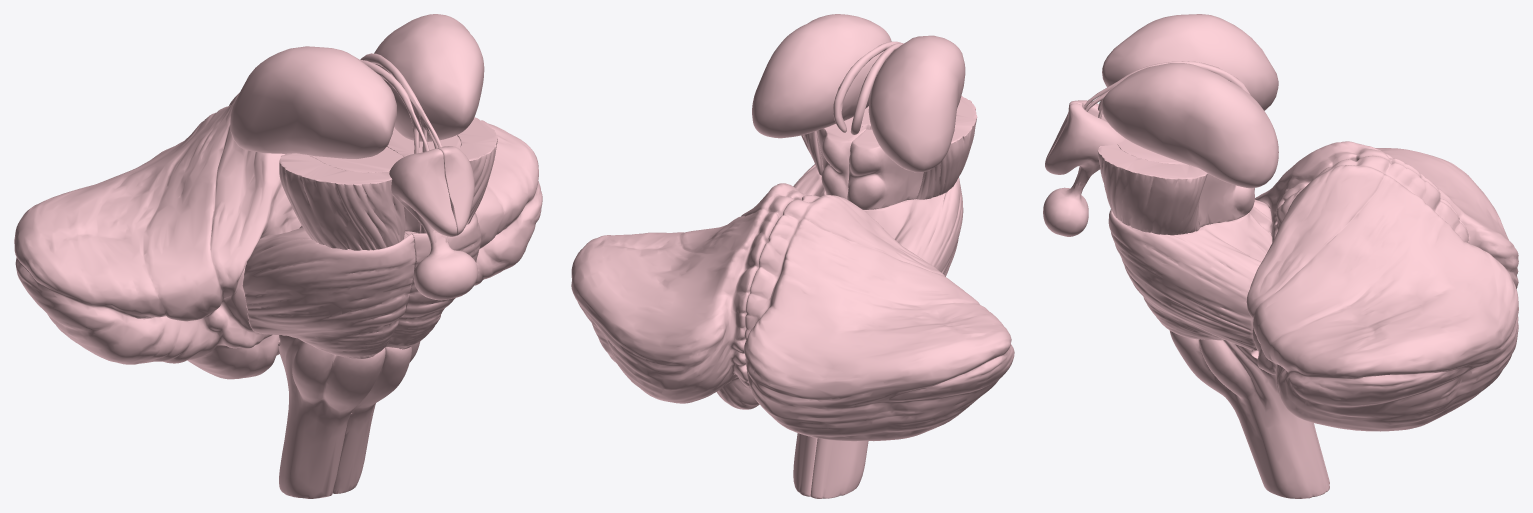
File: brain.glb
The picture shows the model from 3 angles, left to right: view 1: azimuth 30°, elevation 25°; view 2: azimuth 150°, elevation 25°; view 3: azimuth 270°, elevation 25°; orthographic projection. The views are drawn at different scales.
Visible parts, largest first — view 1: grp1; view 2: grp1; view 3: grp1.
Part boxes in pixels (x1,y1,x2,y2): grp1: (14, 14, 542, 498); grp1: (571, 14, 1014, 498); grp1: (1043, 14, 1518, 498).
Bounding box in the file's own units: 0.1065 × 0.1013 × 0.0984.
